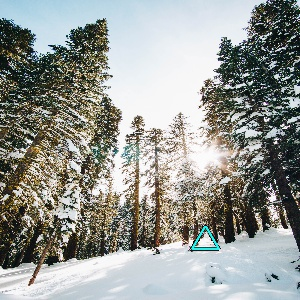triangle: (187, 221, 222, 255)
